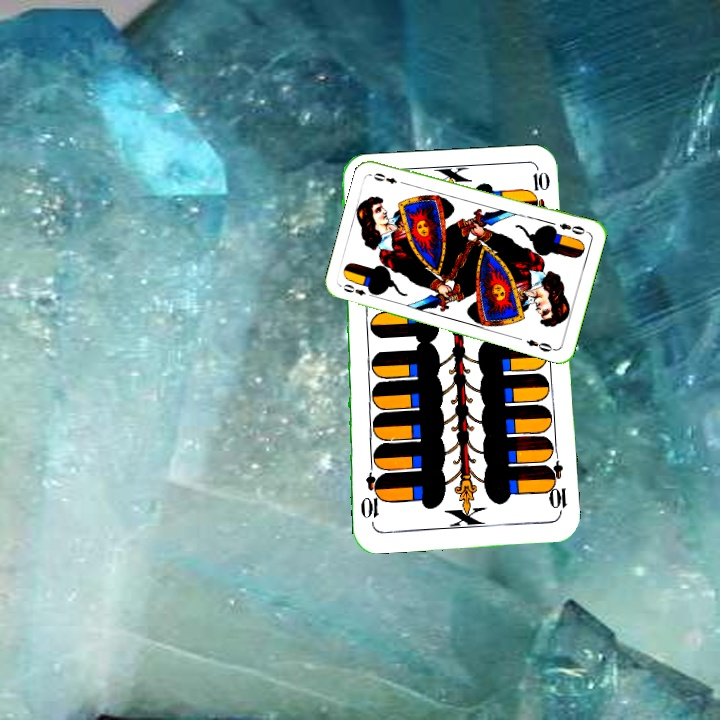E10: (542, 458, 569, 517)
EO: (339, 280, 378, 300), (555, 219, 591, 237)
